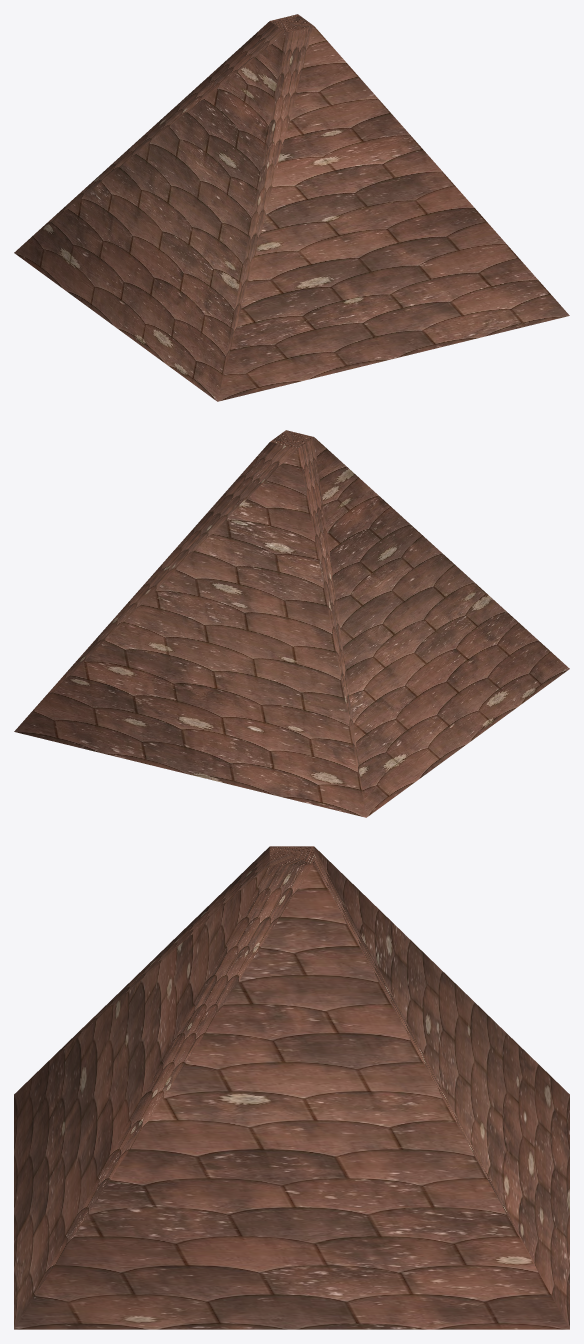
Rendered from roof.obj.
The picture shows the model from 3 angles, top to bottom: view 1: azimuth 30°, elevation 25°; view 2: azimuth 150°, elevation 25°; view 3: azimuth 270°, elevation 25°; orthographic projection. The views are drawn at different scales.
Parts seen in each view (by area): view 1: Cone001; view 2: Cone001; view 3: Cone001.
Part boxes in pixels (<box>): Cone001: <box>14,14,569,401</box>; Cone001: <box>14,430,569,817</box>; Cone001: <box>14,846,569,1329</box>.
Size of the model in its own units: 1.41 by 1 by 1.41.
